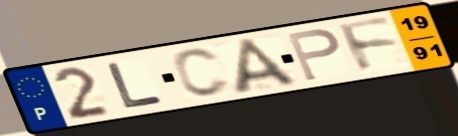2: (51, 65, 117, 122)
A: (232, 35, 304, 97)
C: (170, 46, 234, 100)
F: (334, 15, 403, 75)
L: (103, 60, 168, 111)
P: (284, 27, 343, 84)
